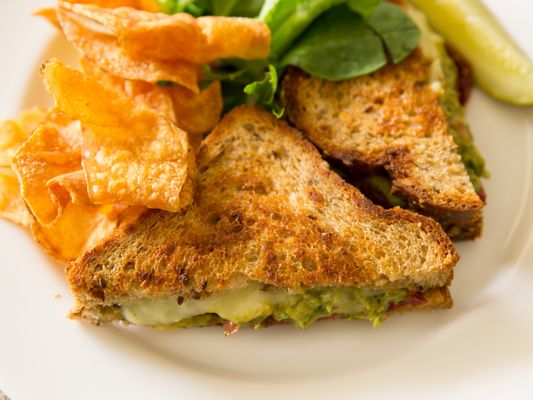soup: (48, 104, 462, 335)
